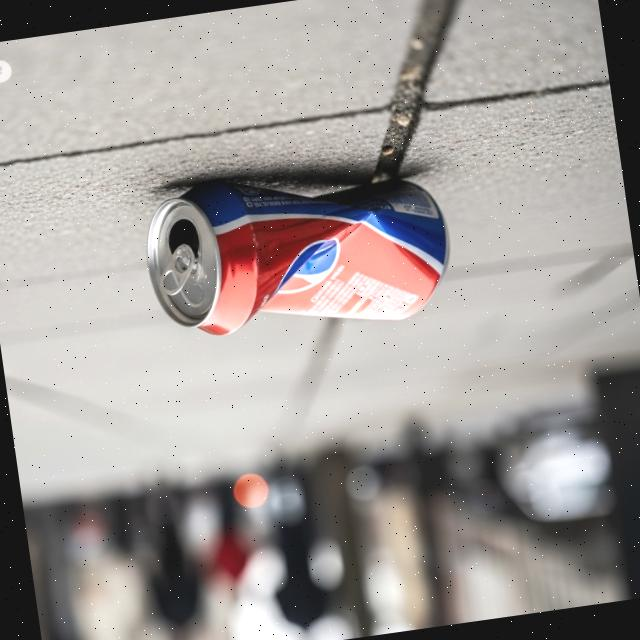aluminum: (137, 143, 464, 359)
